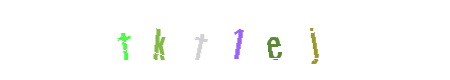1: (188, 0, 268, 80)
E: (198, 0, 278, 80)
J: (233, 0, 313, 80)
K: (151, 0, 231, 80)
T: (84, 0, 164, 80), (185, 0, 265, 80)
